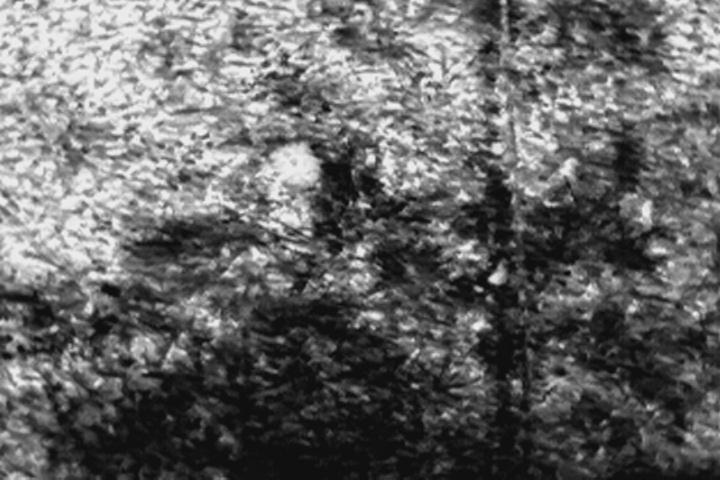landmine: (274, 139, 321, 185)
